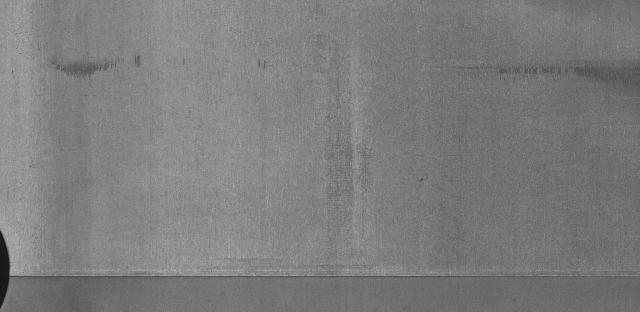welding_line: (7, 268, 640, 289)
